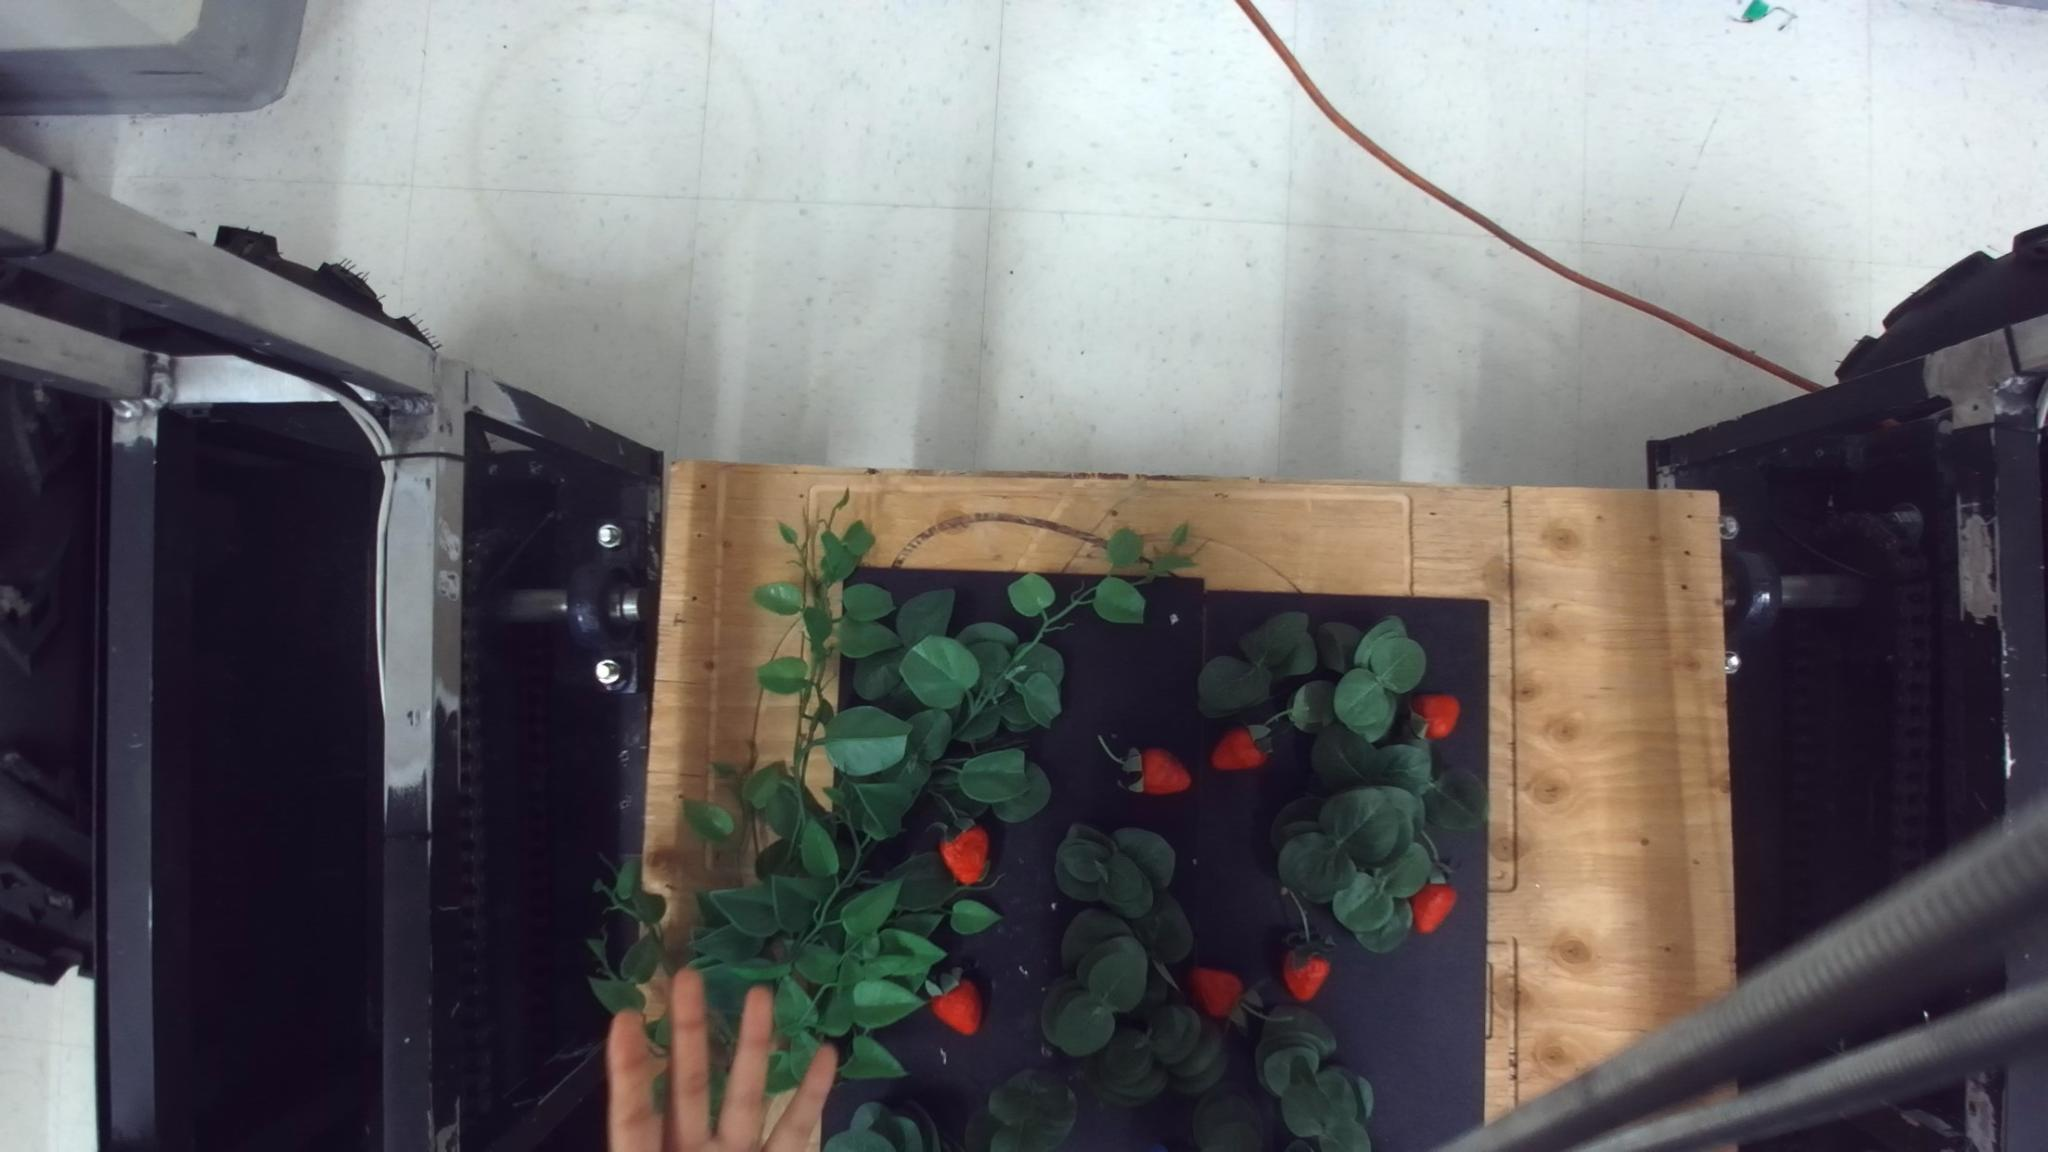strawberry: (930, 973, 982, 1037), (1131, 743, 1191, 796), (1280, 942, 1332, 1003), (938, 824, 989, 886), (1187, 966, 1243, 1020), (1211, 723, 1273, 771), (1409, 881, 1457, 934), (1408, 692, 1460, 740), (1740, 0, 1771, 23)
